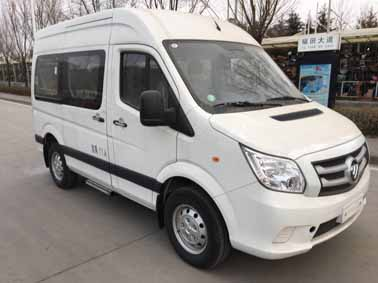midcar: (31, 12, 366, 267)
